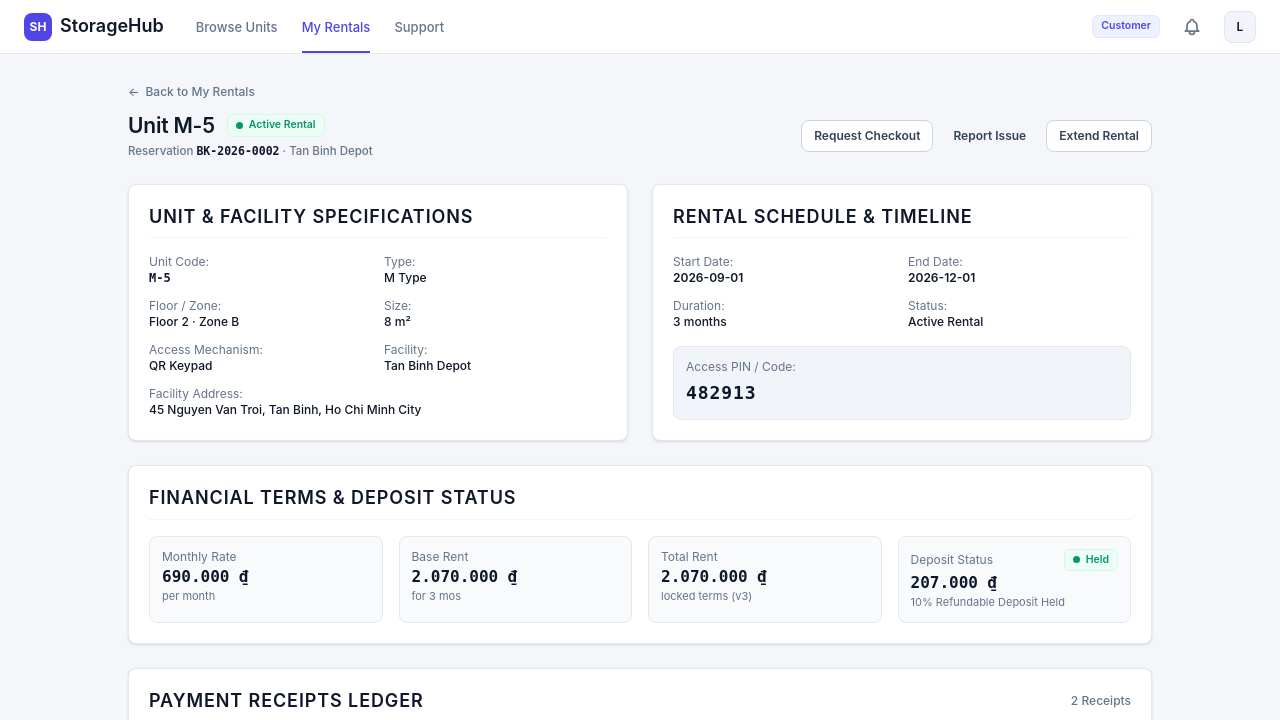
Test: Story 4.1: Rental Extension & Conflict Boundary › opens ExtensionModal and displays boundary and 2-line financial breakdown
Click the button with test id "extend-rental-btn".
click(1099, 136)  # box [1046, 120, 1152, 152]
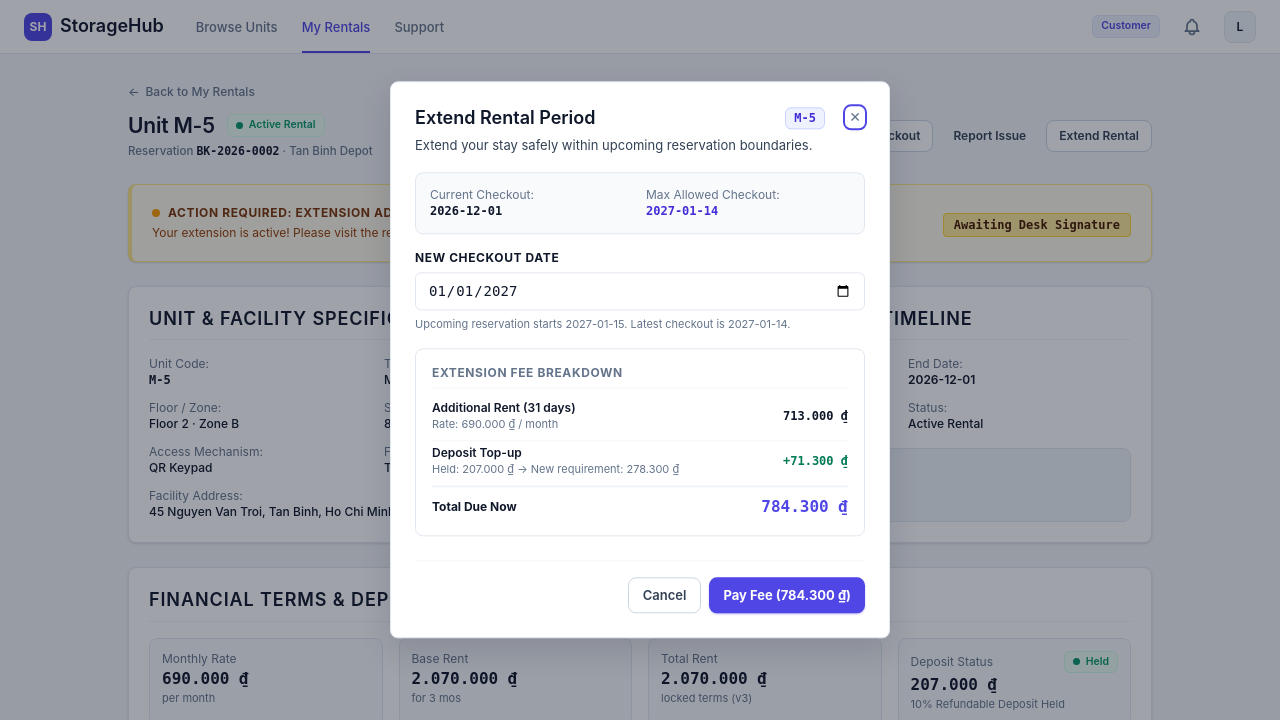
Now the dialog with test id "extension-modal" is shown, box [390, 81, 890, 639]
Now the heading "Extend Rental Period" is shown, box [415, 106, 596, 131]
Now the text with test id "extension-unit-badge" reads "M-5", box [794, 112, 816, 126]
